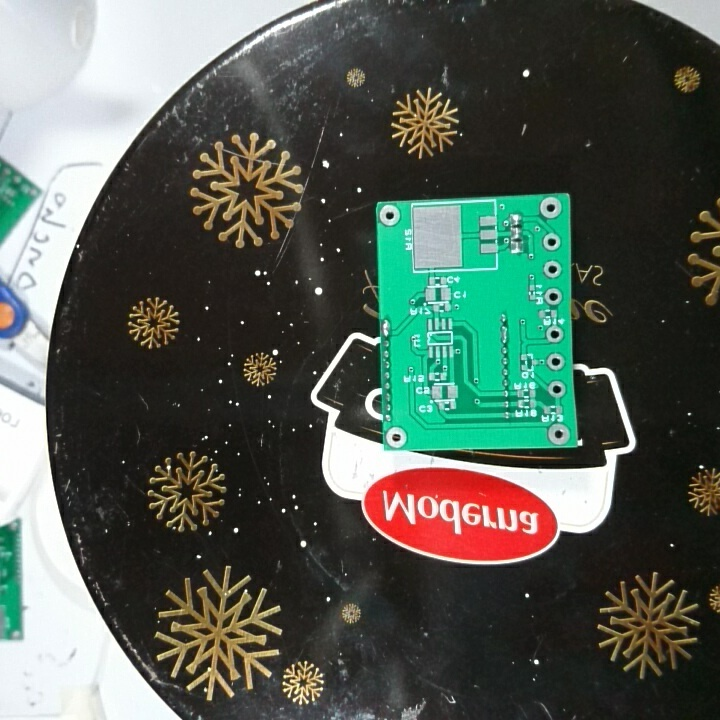F: (546, 421, 573, 446), (538, 196, 564, 220), (378, 203, 402, 228), (544, 350, 568, 374), (385, 425, 408, 449), (542, 285, 565, 307), (545, 322, 567, 345), (540, 259, 564, 280), (546, 378, 568, 399), (541, 232, 562, 253)
P: (498, 325, 512, 346), (380, 318, 393, 340)
